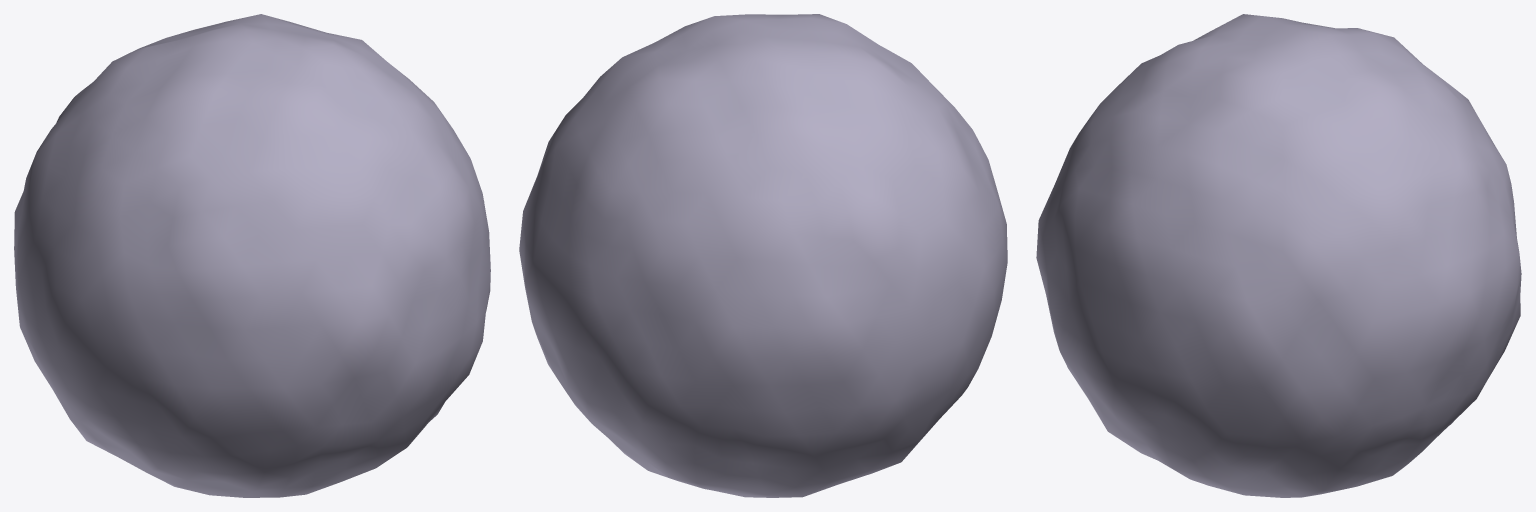
File: molecules.glb
3 renders of one model, left to right at view 1: azimuth 30°, elevation 25°; view 2: azimuth 150°, elevation 25°; view 3: azimuth 270°, elevation 25°, orthographic.
Visible parts, largest first — view 1: whiteCell; view 2: whiteCell; view 3: whiteCell.
Boxes of the visible parts, x1,y1,x2,y2 form: whiteCell: (14,14,490,497); whiteCell: (519,14,1007,497); whiteCell: (1036,14,1521,497).
Bounding box in the file's own units: 8932 × 8925 × 8946.
